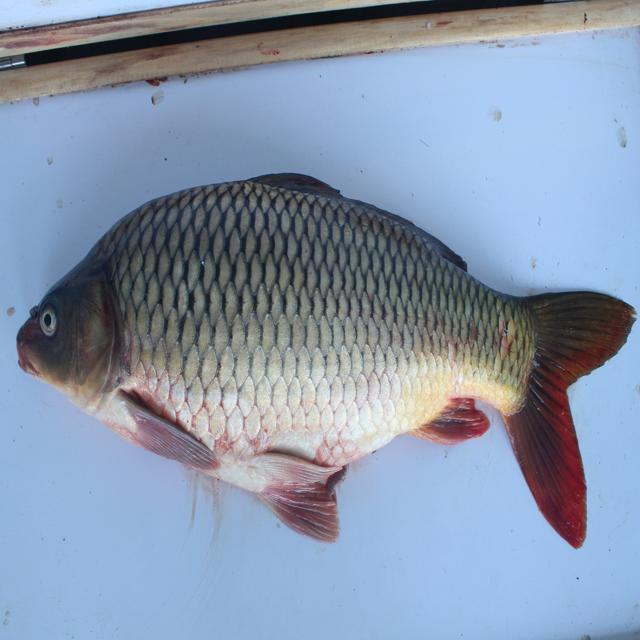CommonCarp: (14, 174, 636, 580)
